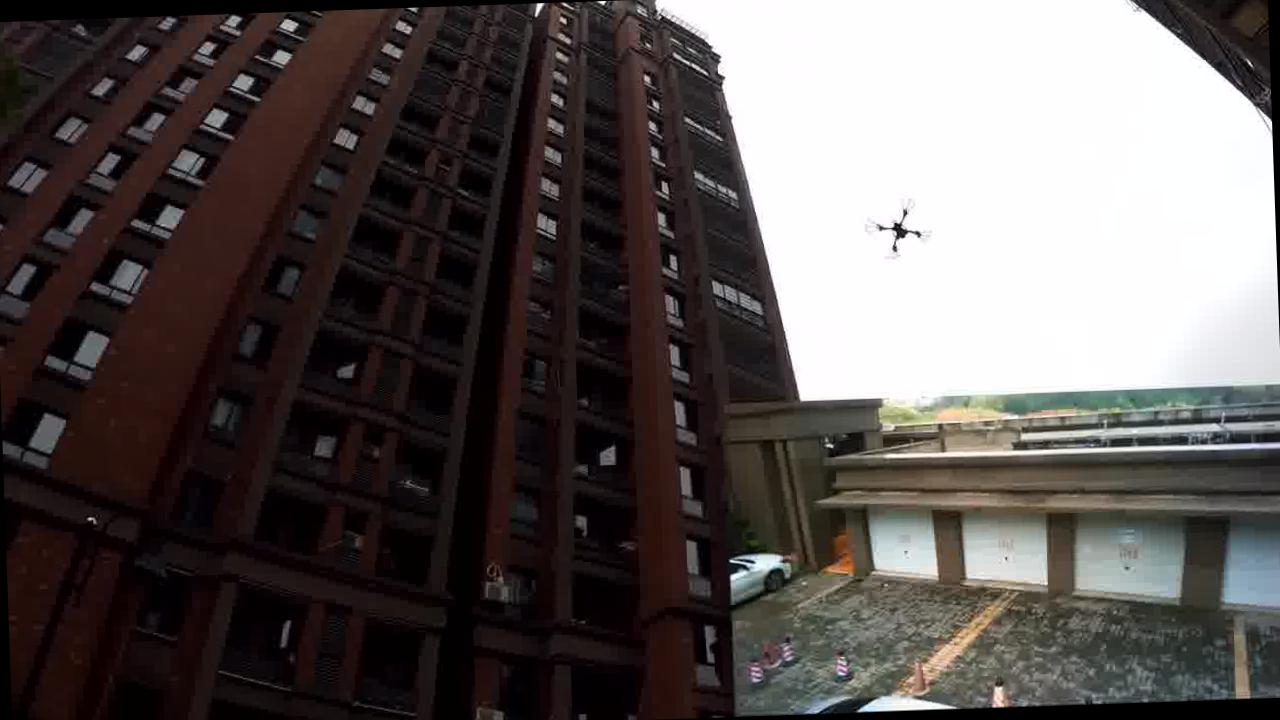drone: (871, 197, 932, 260)
